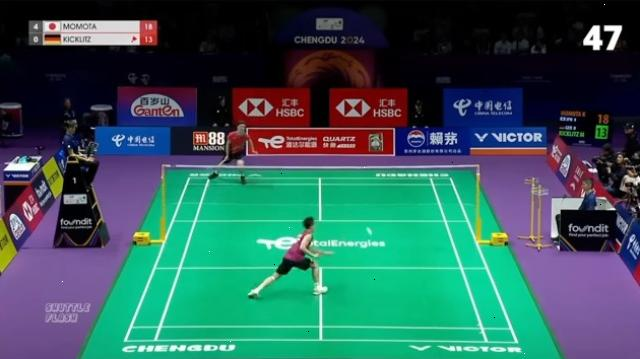Shuttlecock: (364, 225, 374, 237)
